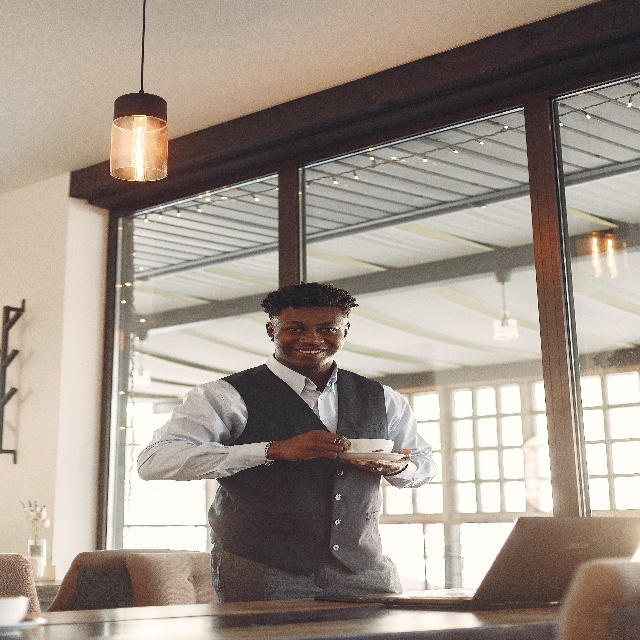Sin_guantes: (274, 432, 351, 463)
